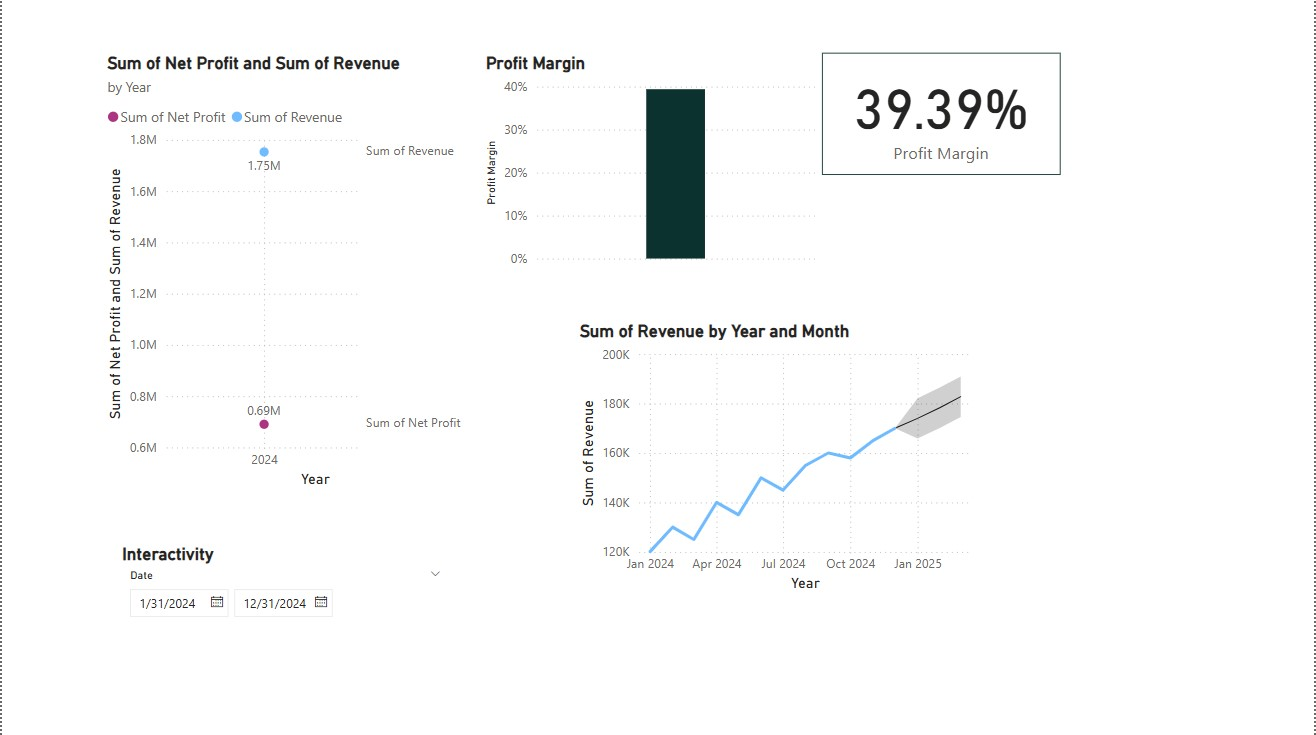

The page's visual inventory and layout, read from the dashboard file:
{"tool":"powerbi","page":{"name":" Financial Health Dashboard -Profitability & Forecast","canvas":[1280,720],"ordinal":4},"visuals":[{"type":"lineChart","fields":{"Category":["IncomeStatement.Date.Variation.Date Hierarchy.Year","IncomeStatement.Date.Variation.Date Hierarchy.Quarter","IncomeStatement.Date.Variation.Date Hierarchy.Month","IncomeStatement.Date.Variation.Date Hierarchy.Day"],"Y":["Sum(IncomeStatement.Net Profit)","Sum(IncomeStatement.Revenue)"]},"box":[97,52,358,429],"z":0},{"type":"clusteredColumnChart","fields":{"Y":["BalanceSheet.Profit Margin"]},"box":[467,52,333,215],"z":1000},{"type":"card","fields":{"Values":["BalanceSheet.Profit Margin"]},"box":[800,52,233,119],"z":2000},{"type":"lineChart","fields":{"Category":["IncomeStatement.Date.Variation.Date Hierarchy.Year","IncomeStatement.Date.Variation.Date Hierarchy.Month"],"Y":["Sum(IncomeStatement.Revenue)"]},"box":[558,314,406,270],"z":3000},{"type":"slicer","title":"Interactivity ","fields":{"Values":["IncomeStatement.Date"]},"box":[112,532,328,103],"z":4000}]}

Visuals, with their boxes in screenshot pixels (x1, y1, x2, y2), scaled from the page's 1280x720 canvas onto the 1316x735 screenshot:
lineChart - IncomeStatement.Date.Variation.Date Hierarchy.Year x IncomeStatement.Date.Variation.Date Hierarchy.Quarter: {"left": 100, "top": 53, "right": 468, "bottom": 491}
clusteredColumnChart - BalanceSheet.Profit Margin: {"left": 480, "top": 53, "right": 822, "bottom": 273}
card - BalanceSheet.Profit Margin: {"left": 822, "top": 53, "right": 1062, "bottom": 175}
lineChart - IncomeStatement.Date.Variation.Date Hierarchy.Year x IncomeStatement.Date.Variation.Date Hierarchy.Month: {"left": 574, "top": 321, "right": 991, "bottom": 596}
"Interactivity " slicer: {"left": 115, "top": 543, "right": 452, "bottom": 648}
